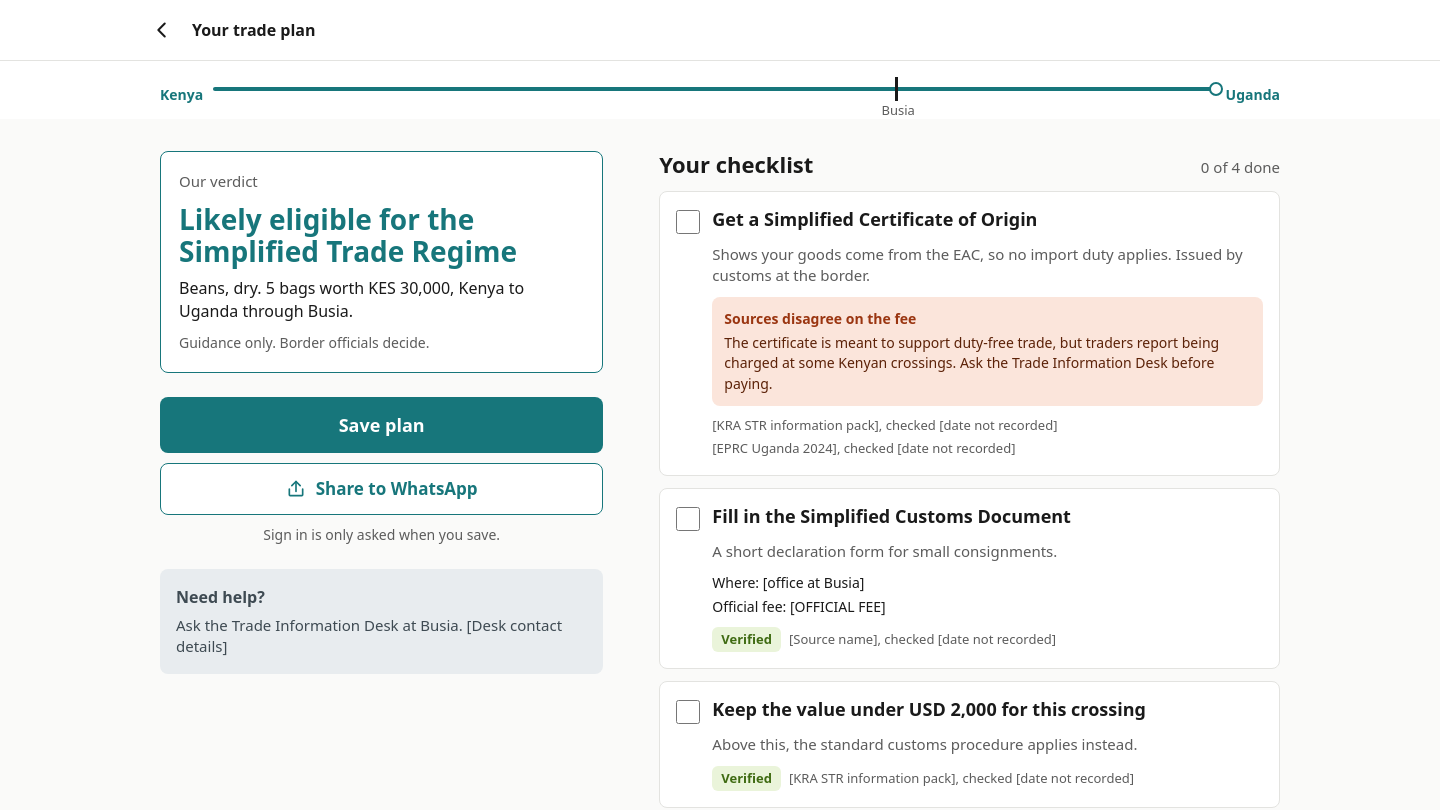
Test: result screen — checklist › counts ticked items as the trader works through them
Expected: the text "0 of 4 done" is shown, [1201,156,1280,178]
Click the checkbox labelled "Get a Simplified Certificate of Origin" at (688, 222), box [676,210,700,234]
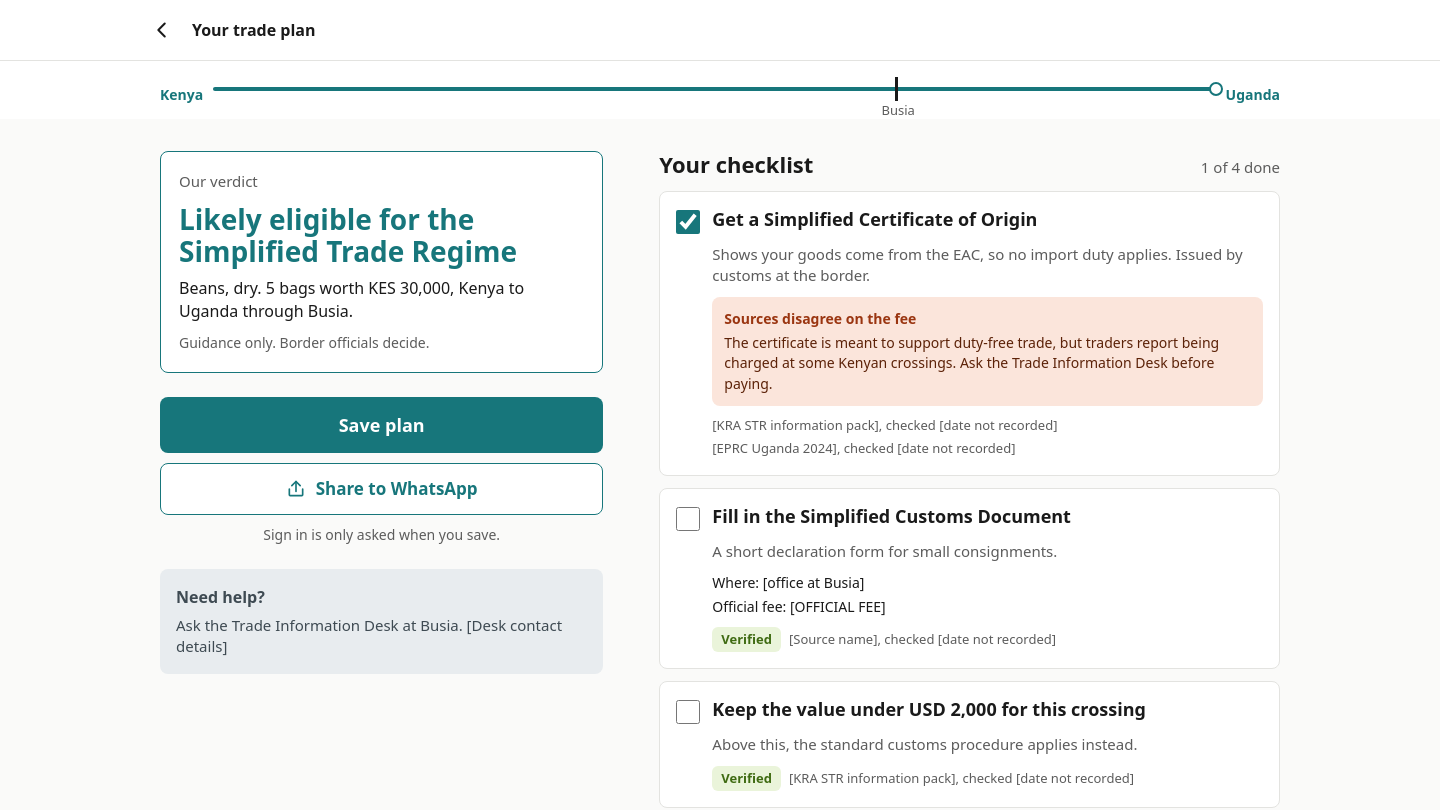
Expected: the checkbox labelled "Get a Simplified Certificate of Origin" is checked
Expected: the text "1 of 4 done" is shown, [1201,156,1280,178]
Click the checkbox labelled "Get a Simplified Certificate of Origin" at (688, 222), box [676,210,700,234]
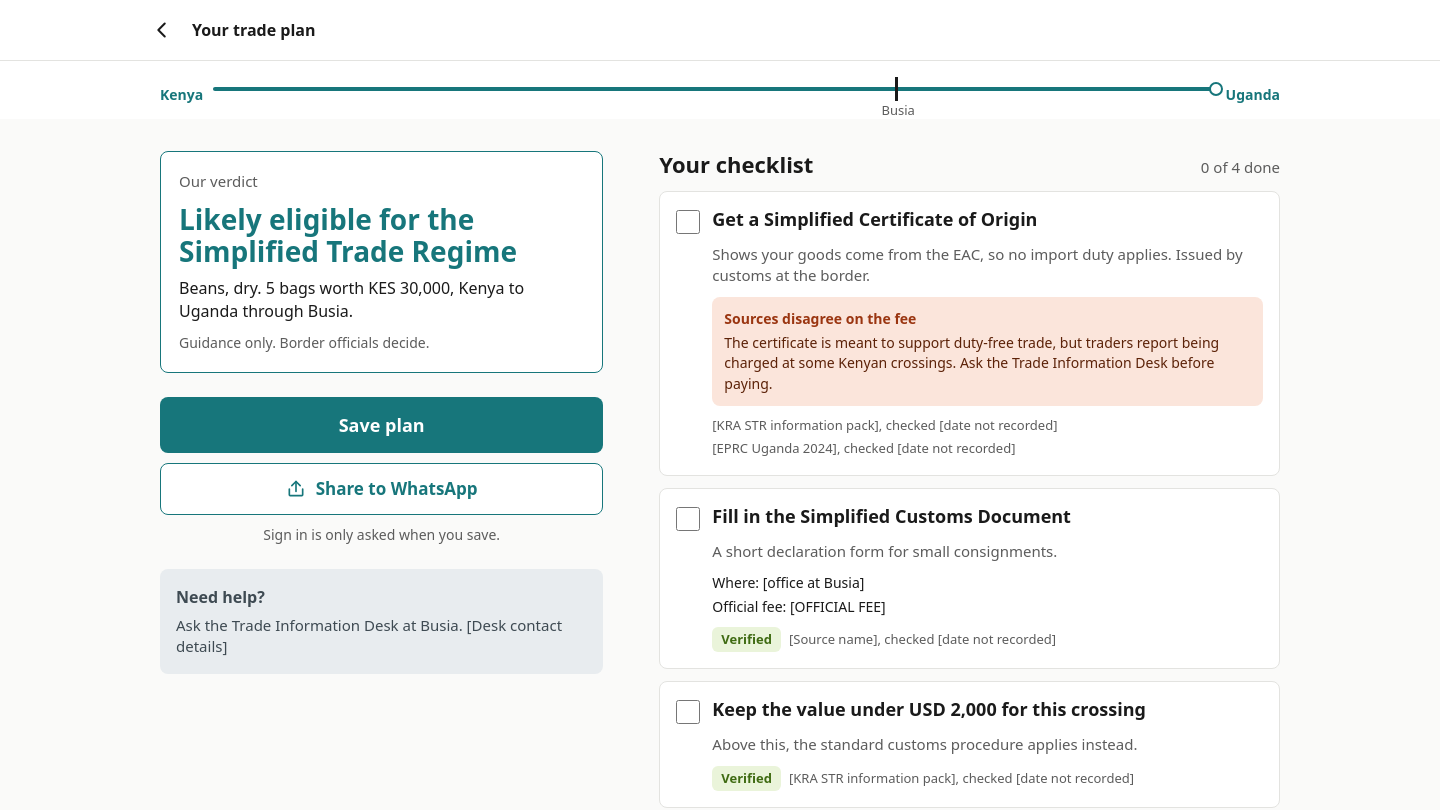
Expected: the text "0 of 4 done" is shown, [1201,156,1280,178]
